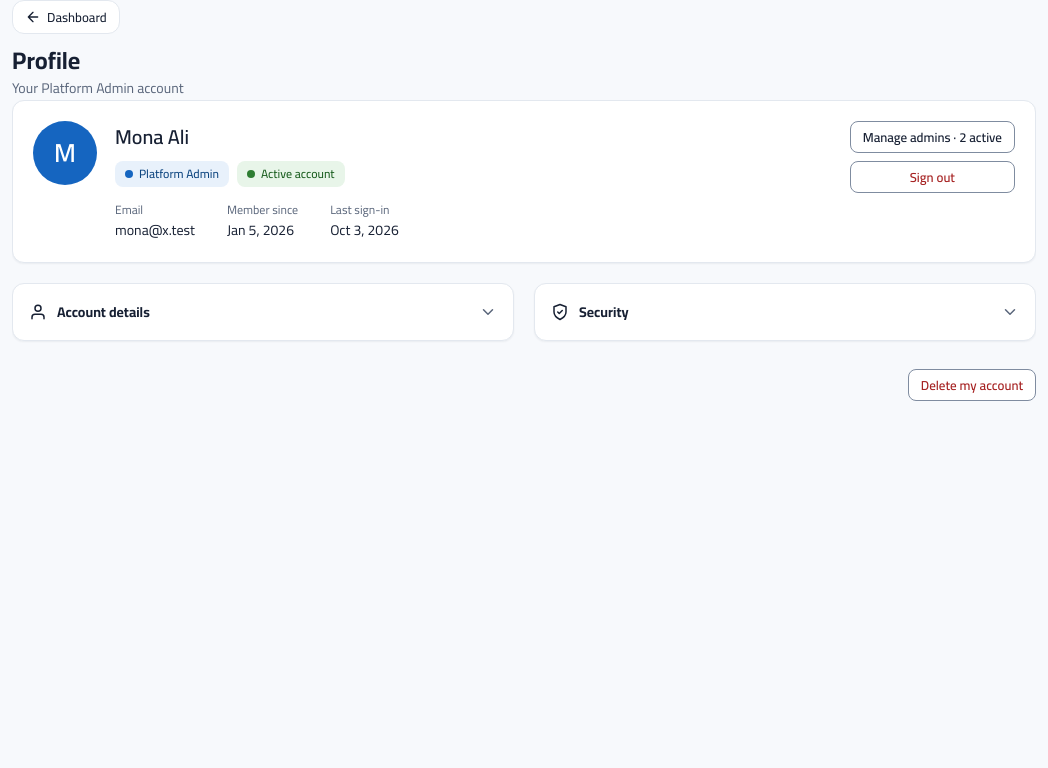
Test case: changing the password › is closed until the Security card is opened
The image size is (1048, 768).
Click the button "Security": (604, 312) [535,284,1035,340]
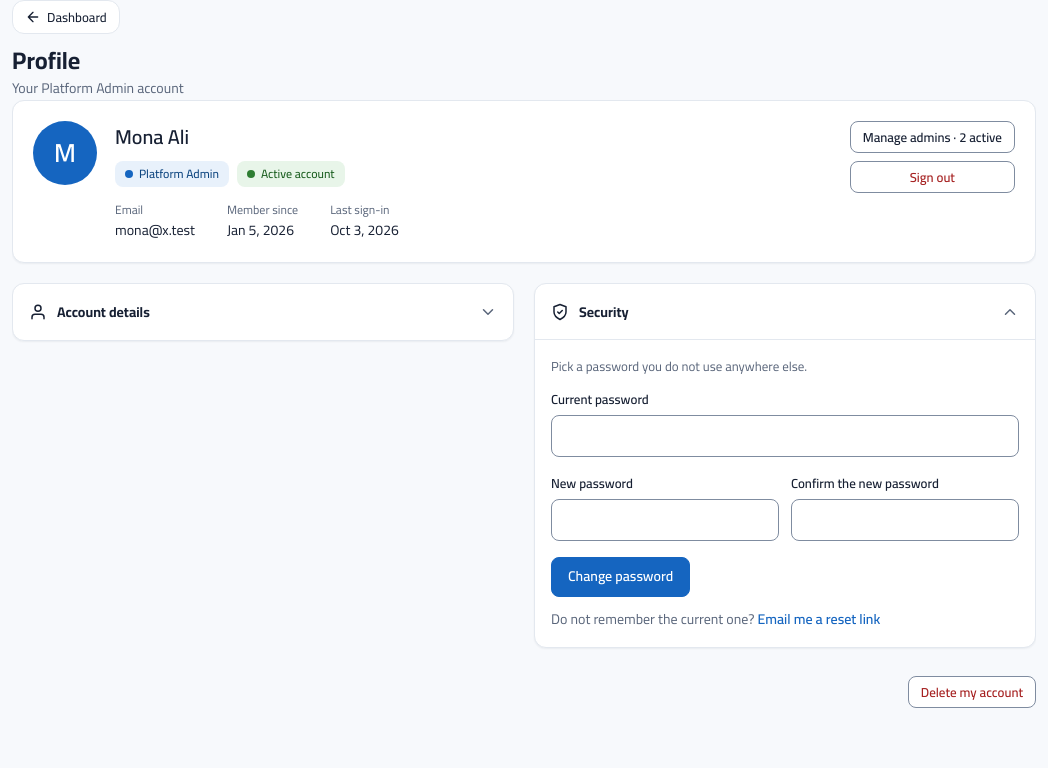
Now the button "Security" is expanded, box [535,284,1035,340]
